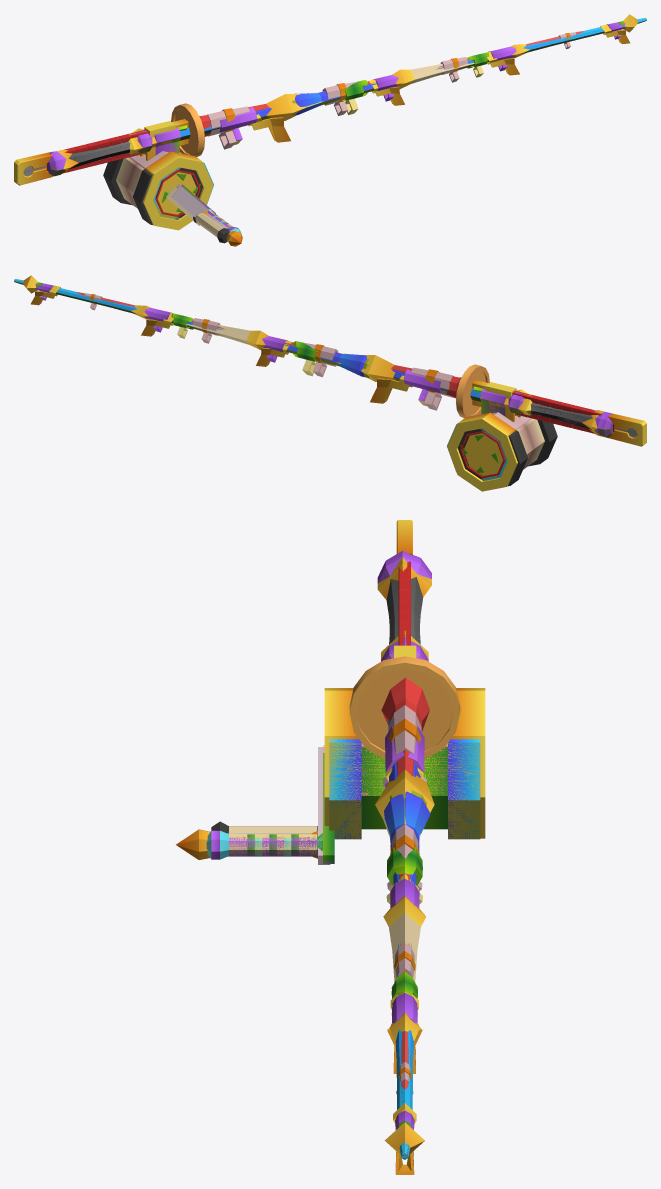
The model's file is Premium_Fishing_Rob.fbx.
The picture shows the model from 3 angles, top to bottom: view 1: azimuth 30°, elevation 25°; view 2: azimuth 150°, elevation 25°; view 3: azimuth 270°, elevation 25°; orthographic projection. The views are drawn at different scales.
Parts seen in each view (by area): view 1: Fishing_Rob_Samurai, Fishing_Rob_Golden, Fishing_Rob_Deep_Sea, Fishing_Rob_Toxic; view 2: Fishing_Rob_Samurai, Fishing_Rob_Golden, Fishing_Rob_Deep_Sea, Fishing_Rob_Toxic; view 3: Fishing_Rob_Samurai, Fishing_Rob_Deep_Sea, Fishing_Rob_Toxic, Fishing_Rob_Golden.
Boxes of the visible parts, x1,y1,x2,y2 form: Fishing_Rob_Samurai: [14, 30, 584, 246]; Fishing_Rob_Golden: [57, 14, 638, 243]; Fishing_Rob_Deep_Sea: [48, 17, 646, 233]; Fishing_Rob_Toxic: [49, 19, 646, 226]; Fishing_Rob_Samurai: [76, 292, 646, 491]; Fishing_Rob_Golden: [22, 275, 604, 486]; Fishing_Rob_Deep_Sea: [14, 279, 612, 480]; Fishing_Rob_Toxic: [14, 281, 612, 480]; Fishing_Rob_Samurai: [176, 520, 485, 1094]; Fishing_Rob_Deep_Sea: [206, 550, 480, 1159]; Fishing_Rob_Toxic: [229, 565, 480, 1158]; Fishing_Rob_Golden: [211, 553, 434, 1174].
Bounding box in the file's own units: 159 × 25.2 × 33.9.
